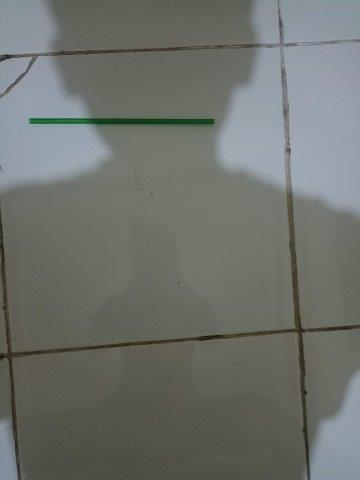sedotan: (30, 118, 215, 124)
